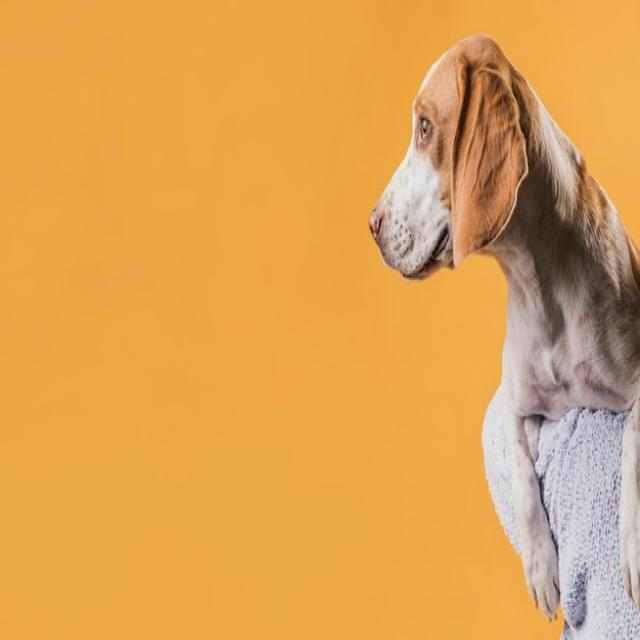Dog: (369, 33, 640, 622)
